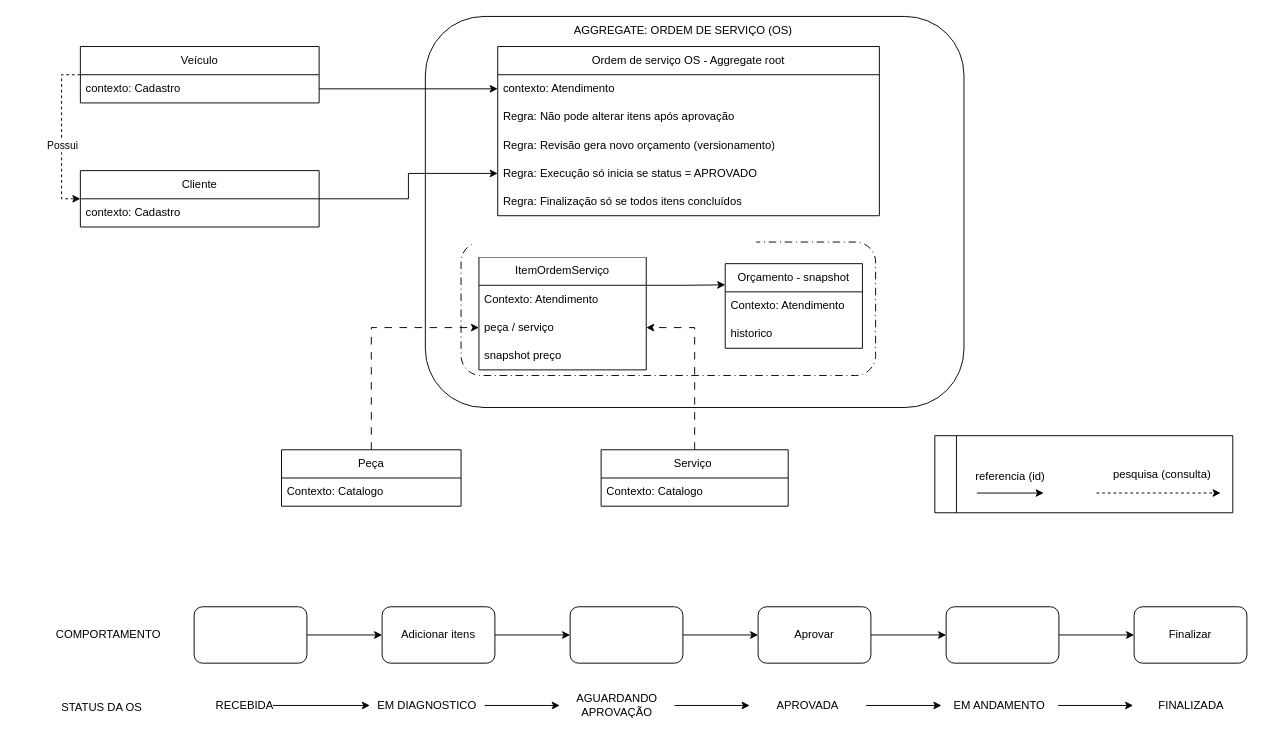
Some shapes in this 1265 by 738 pixel diagram are drawn without their labels. Here are the shapes that lost their labels. From the top down, the centre of each, then its label:
point 614,242: ENTIDADES DA OS (so existe dentro do aggregate)
point 1083,474: LEGENDA
point 250,634: Criar OS
point 626,634: Gerar orçamento
point 1002,634: Executar
